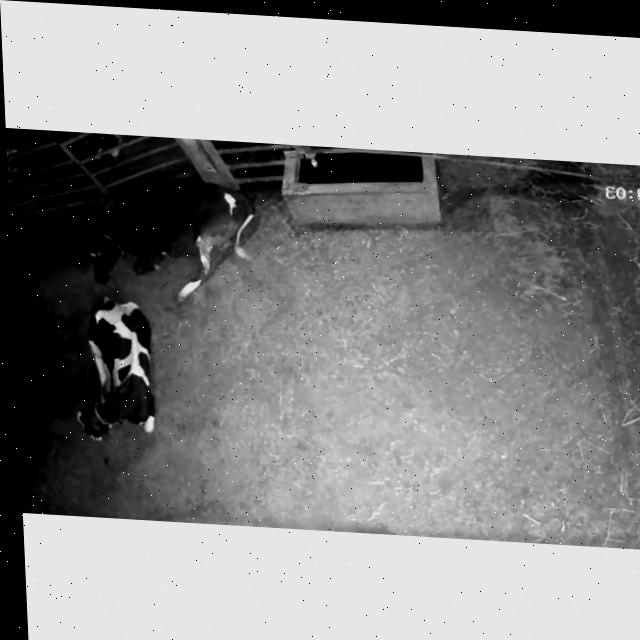lay: (56, 151, 274, 309), (63, 284, 171, 450)
